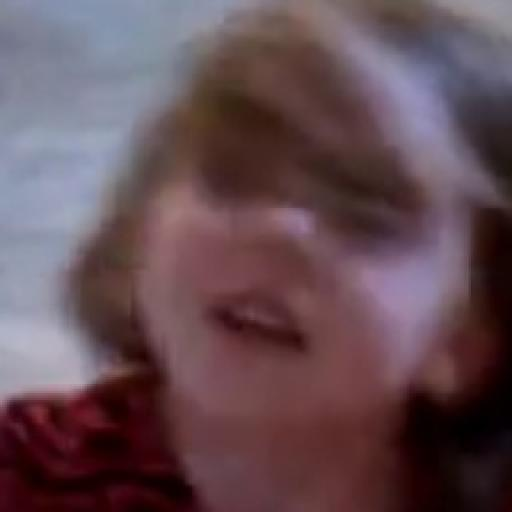Autism: (137, 52, 490, 423)
